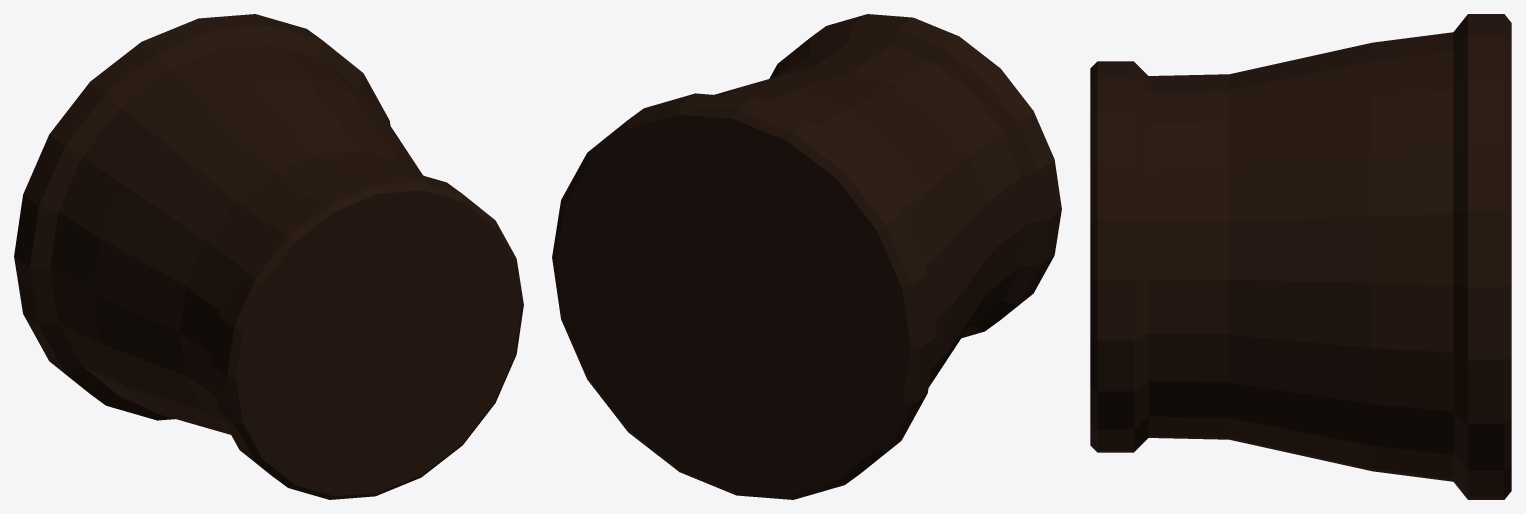
Rendered from PipeLargen.obj.
3 renders of one model, left to right at view 1: azimuth 30°, elevation 25°; view 2: azimuth 150°, elevation 25°; view 3: azimuth 270°, elevation 25°, orthographic. The views are drawn at different scales.
Parts seen in each view (by area): view 1: PipeLargen; view 2: PipeLargen; view 3: PipeLargen.
Part boxes in pixels (x1=…): PipeLargen: x1=14, y1=14, x2=523, y2=499; PipeLargen: x1=552, y1=14, x2=1061, y2=499; PipeLargen: x1=1090, y1=14, x2=1511, y2=499.
Size of the model in its own units: 0.0672 by 0.0671 by 0.0578.
